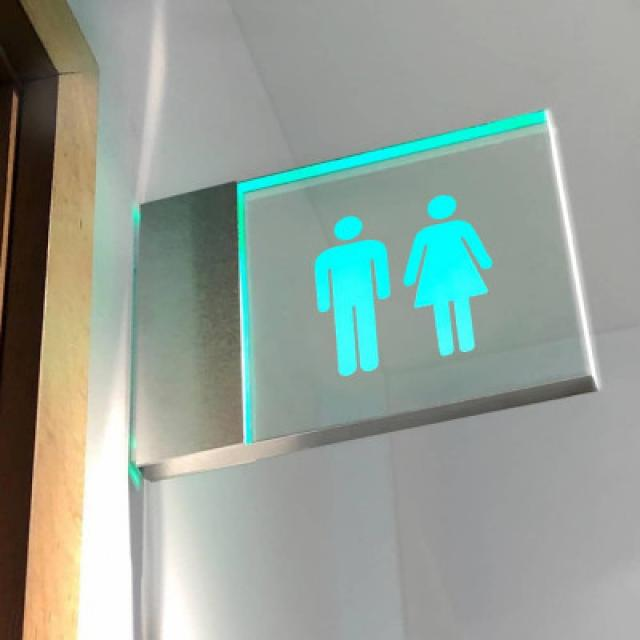toilet_icon: (308, 186, 510, 385)
